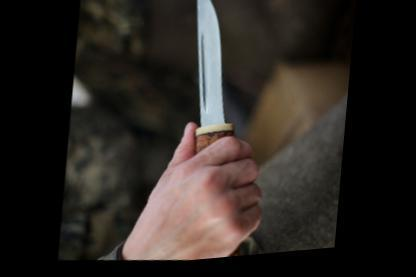knife: (168, 0, 287, 245)
